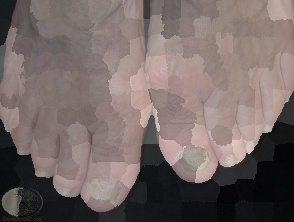Nail_psoriasis: (79, 166, 129, 212), (173, 137, 218, 182), (217, 151, 241, 169), (53, 182, 73, 198), (243, 142, 257, 157), (260, 122, 276, 135), (34, 164, 47, 177), (3, 119, 13, 135), (16, 146, 31, 156), (283, 94, 291, 106)
